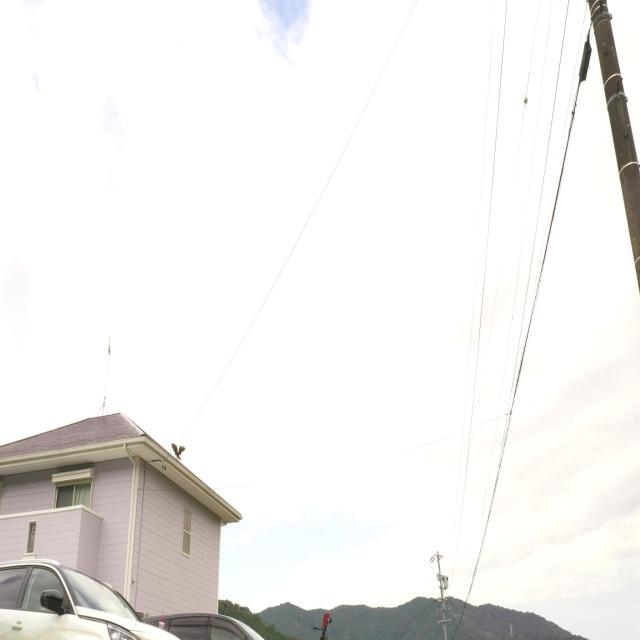Birds: (168, 434, 188, 468)
